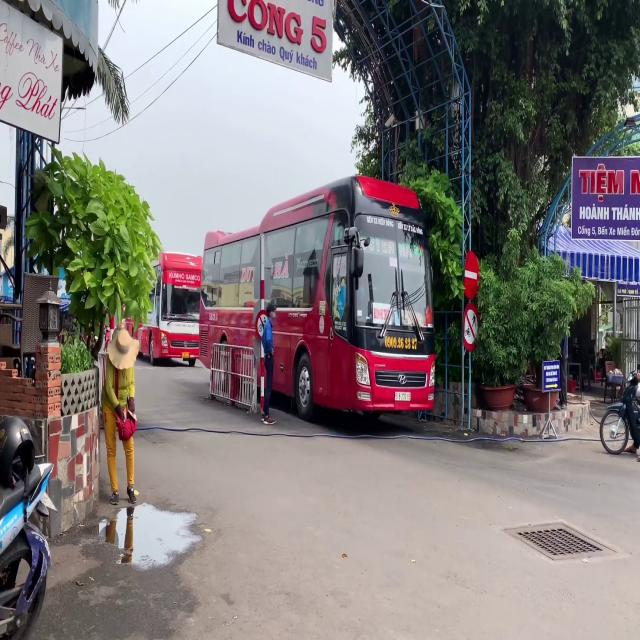bien_trang: (394, 391, 412, 403)
